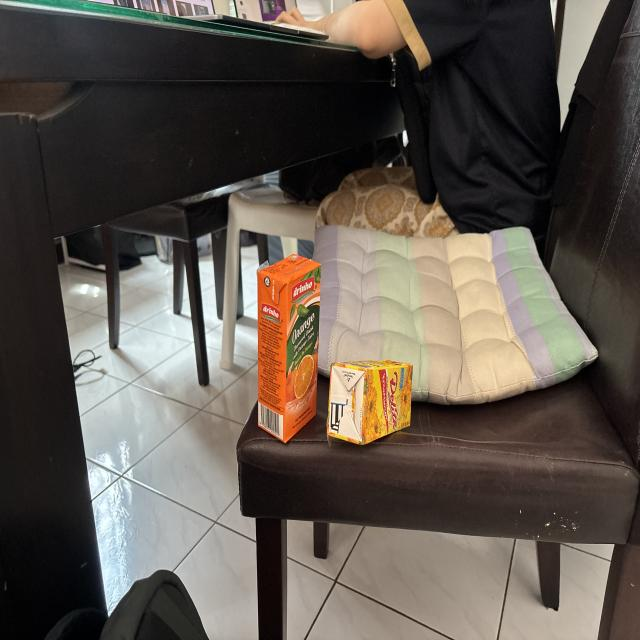drink_carton: (249, 248, 327, 448), (324, 350, 417, 452)
